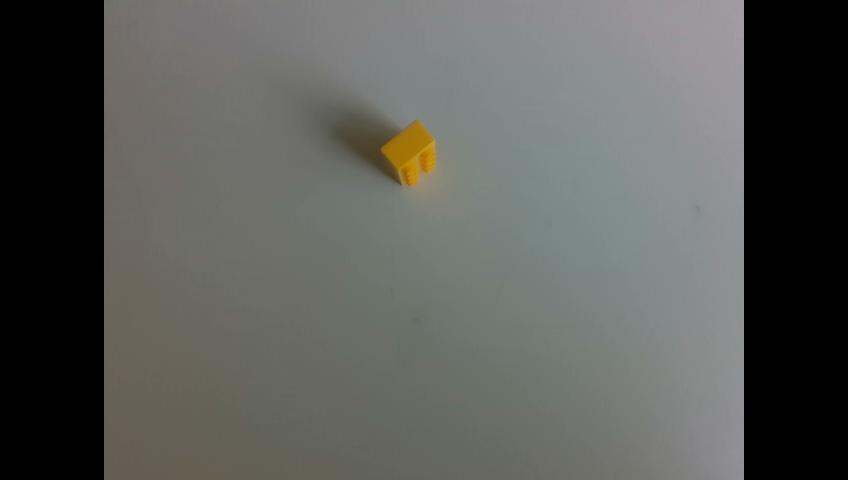4x2_yellow: (379, 118, 436, 185)
